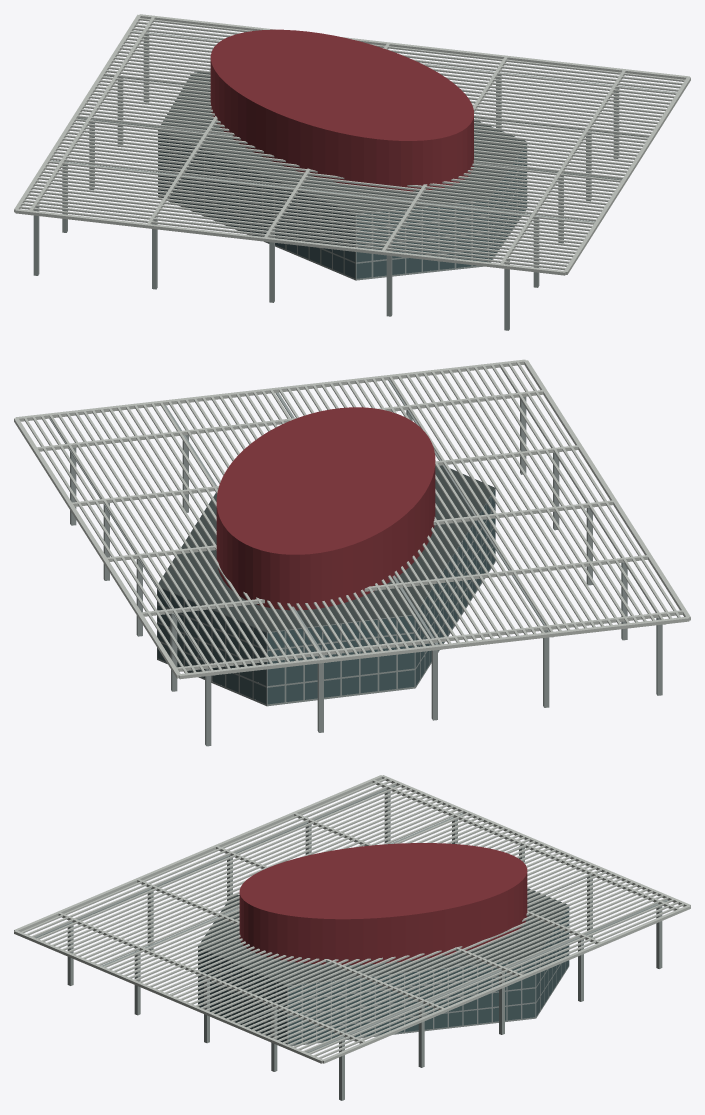
The model's file is winspear-opera-house-near.glb.
3 renders of one model, top to bottom at view 1: azimuth 30°, elevation 25°; view 2: azimuth 150°, elevation 25°; view 3: azimuth 270°, elevation 25°, orthographic. The views are drawn at different scales.
Visible parts, largest first — view 1: winspear-opera-house-0-roof, winspear-opera-house-0-brick, winspear-opera-house-0-glass, winspear-opera-house-0-metal, winspear-opera-house-0-dark; view 2: winspear-opera-house-0-roof, winspear-opera-house-0-brick, winspear-opera-house-0-glass, winspear-opera-house-0-metal, winspear-opera-house-0-dark; view 3: winspear-opera-house-0-roof, winspear-opera-house-0-brick, winspear-opera-house-0-glass, winspear-opera-house-0-metal, winspear-opera-house-0-dark.
Part boxes in pixels (x1=…): winspear-opera-house-0-roof: x1=14, y1=14, x2=690, y2=275; winspear-opera-house-0-brick: x1=210, y1=29, x2=473, y2=191; winspear-opera-house-0-glass: x1=158, y1=134, x2=526, y2=278; winspear-opera-house-0-metal: x1=24, y1=30, x2=676, y2=330; winspear-opera-house-0-dark: x1=159, y1=70, x2=526, y2=213; winspear-opera-house-0-roof: x1=14, y1=359, x2=690, y2=679; winspear-opera-house-0-brick: x1=216, y1=407, x2=435, y2=610; winspear-opera-house-0-glass: x1=157, y1=490, x2=495, y2=704; winspear-opera-house-0-metal: x1=49, y1=367, x2=665, y2=746; winspear-opera-house-0-dark: x1=158, y1=465, x2=495, y2=632; winspear-opera-house-0-roof: x1=14, y1=775, x2=690, y2=1063; winspear-opera-house-0-brick: x1=239, y1=843, x2=527, y2=964; winspear-opera-house-0-glass: x1=198, y1=906, x2=569, y2=1044; winspear-opera-house-0-metal: x1=34, y1=785, x2=668, y2=1100; winspear-opera-house-0-dark: x1=198, y1=889, x2=567, y2=985.
Bounding box in the file's own units: 184 × 32 × 184.
